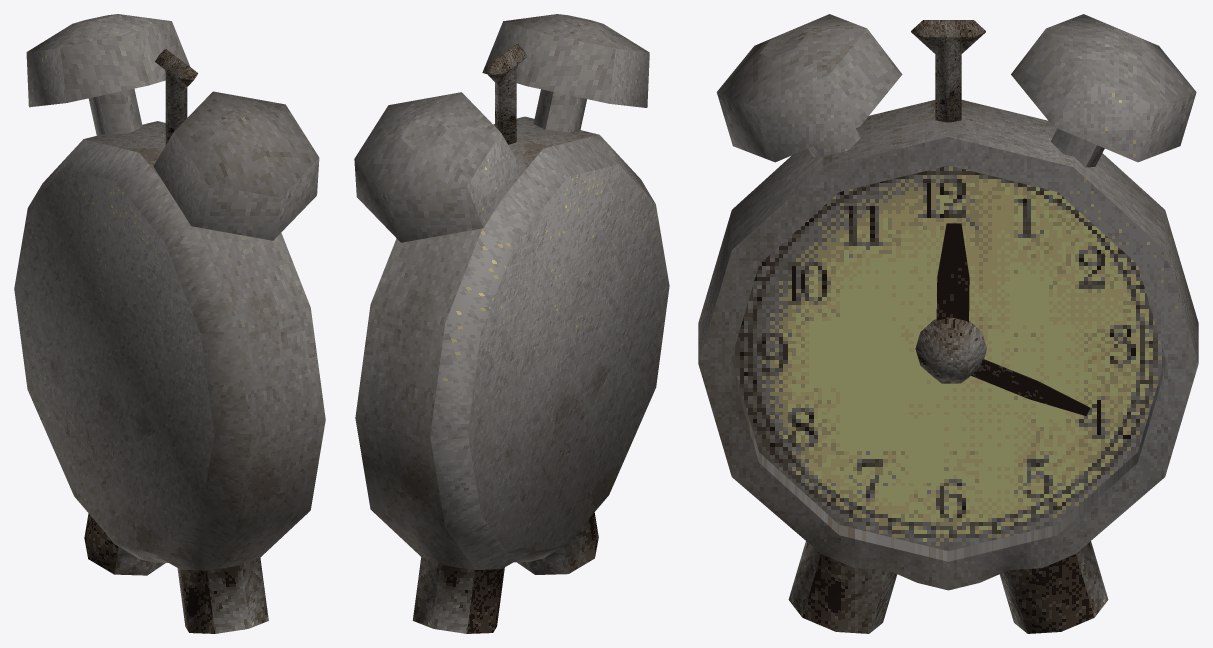
Rendered from retro_clock.glb.
The picture shows the model from 3 angles, left to right: view 1: azimuth 30°, elevation 25°; view 2: azimuth 150°, elevation 25°; view 3: azimuth 270°, elevation 25°; orthographic projection. The views are drawn at different scales.
Visible parts, largest first — view 1: Cylinder, Sphere.002; view 2: Cylinder, Sphere.002; view 3: Cylinder, Sphere.002, Cube, Cube.001.
Part boxes in pixels (x1=…): Cylinder: x1=14, y1=14, x2=325, y2=633; Sphere.002: x1=155, y1=49, x2=197, y2=144; Cylinder: x1=354, y1=14, x2=669, y2=633; Sphere.002: x1=484, y1=44, x2=527, y2=144; Cylinder: x1=698, y1=14, x2=1198, y2=633; Sphere.002: x1=911, y1=20, x2=985, y2=122; Cube: x1=936, y1=223, x2=969, y2=322; Cube.001: x1=971, y1=359, x2=1090, y2=415.
Size of the model in its own units: 0.0735 by 0.3 by 0.2259.
Materials: 2 (2 with a texture image).
